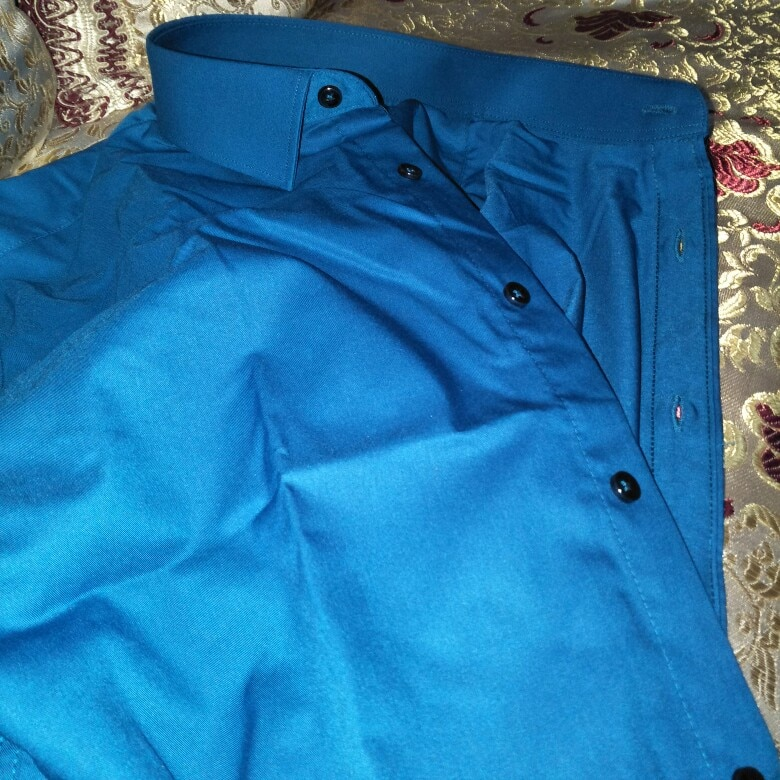shirts: (58, 20, 743, 780)
